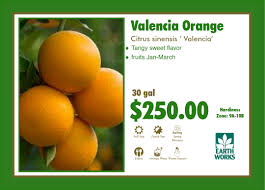orange: (38, 31, 102, 90), (20, 84, 74, 146), (41, 116, 100, 170), (75, 70, 124, 127)
